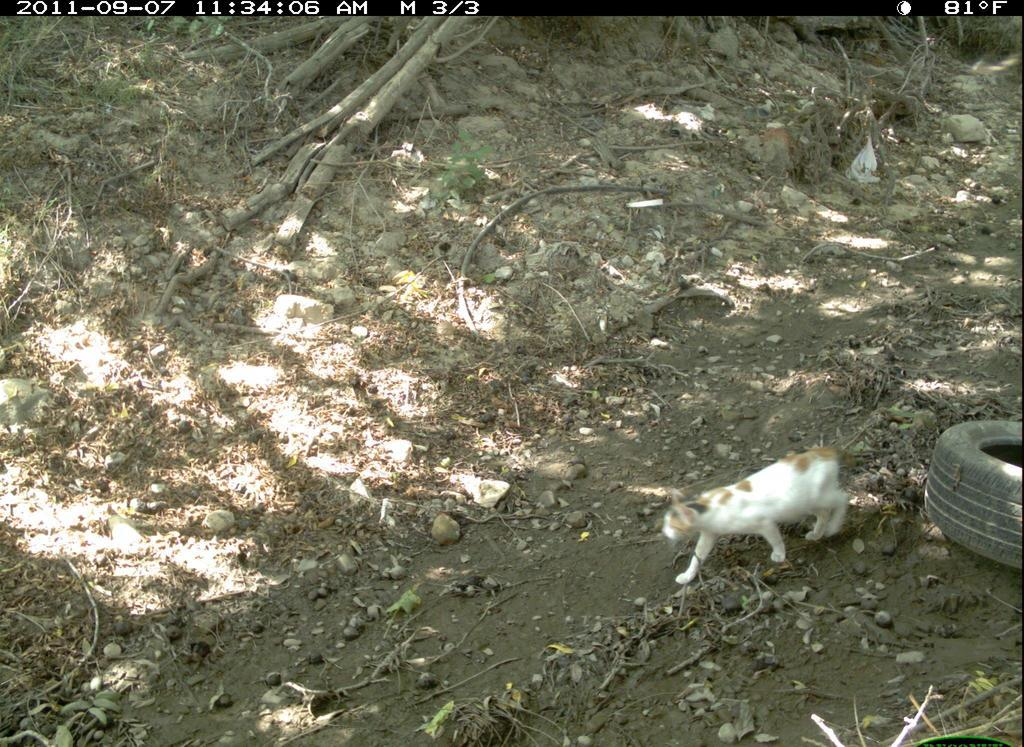cat: (643, 443, 859, 587)
